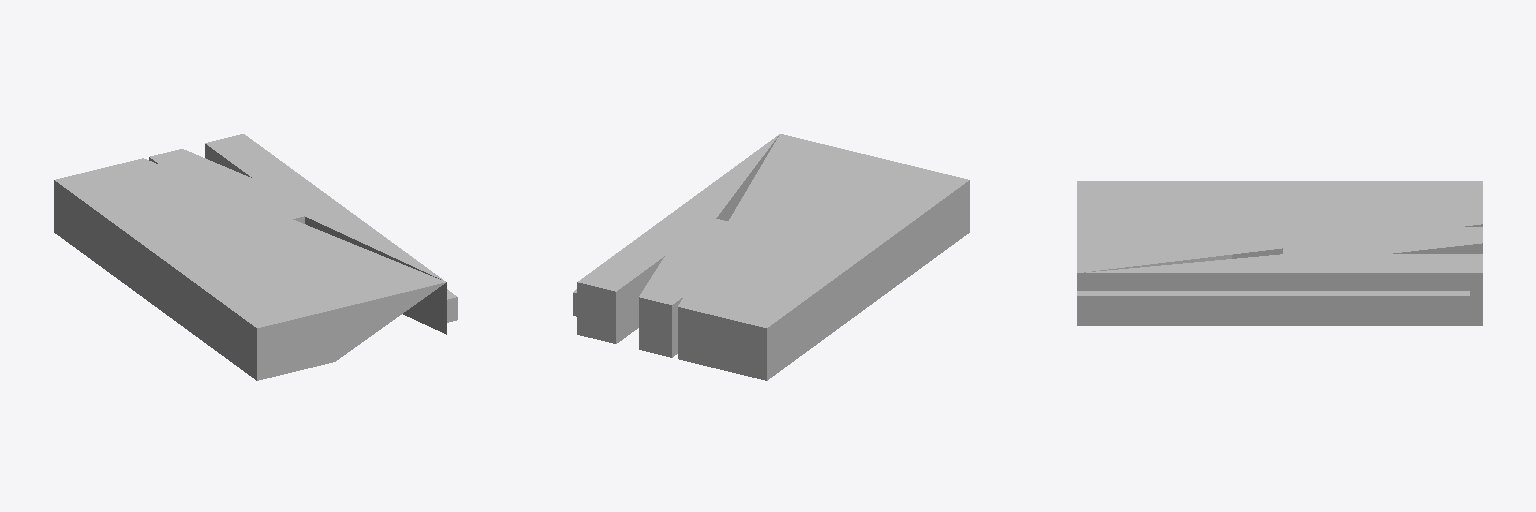
File: sink.obj
3 views of the same model, side by side, from view 1: azimuth 30°, elevation 25°; view 2: azimuth 150°, elevation 25°; view 3: azimuth 270°, elevation 25° (orthographic).
Bounding box in the file's own units: 36 × 9 × 63.